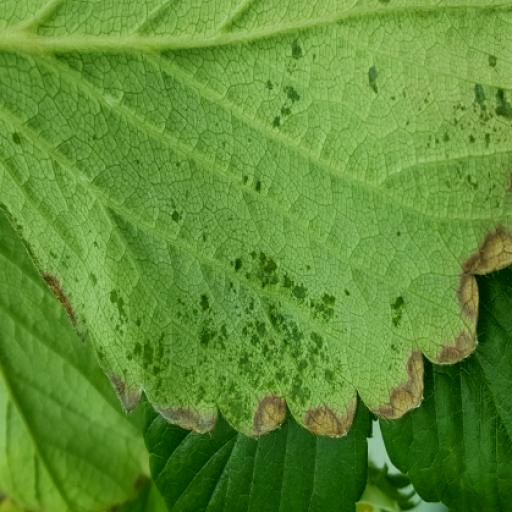Angular Leafspot: (0, 72, 511, 511)
